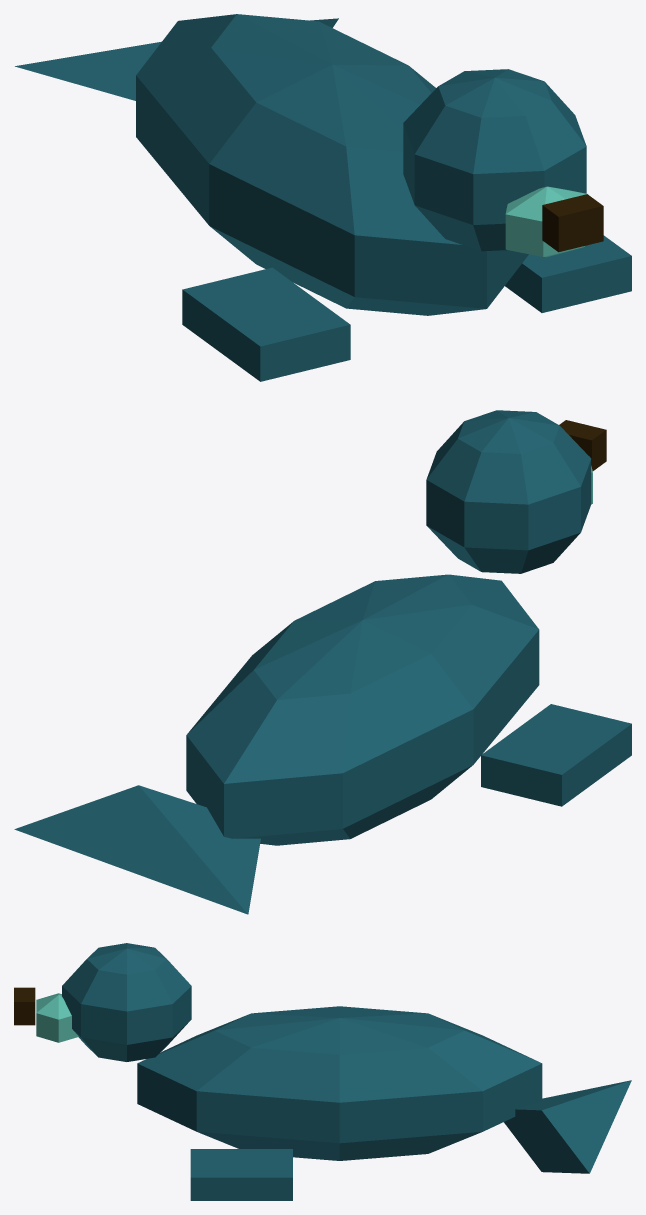
Rendered from seal.glb.
3 views of the same model, one above another, from view 1: azimuth 30°, elevation 25°; view 2: azimuth 150°, elevation 25°; view 3: azimuth 270°, elevation 25° (orthographic). The views are drawn at different scales.
Parts seen in each view (by area): view 1: Seal; view 2: Seal; view 3: Seal.
Part boxes in pixels (left/top/right/bottom): Seal: left=15, top=14, right=631, bottom=381; Seal: left=14, top=410, right=631, bottom=914; Seal: left=14, top=943, right=631, bottom=1200.
Size of the model in its own units: 0.6807 by 0.52 by 1.45.
